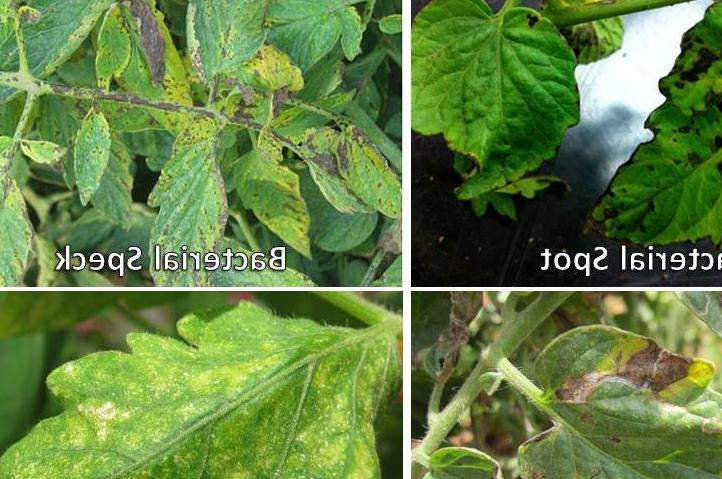Tomato Early blight leaf: (501, 319, 722, 479)
Tomato leaf bacterial spot: (411, 0, 590, 242), (580, 0, 722, 268), (154, 103, 238, 284), (232, 111, 315, 278), (179, 0, 295, 100), (0, 117, 69, 284), (296, 123, 391, 236), (242, 0, 386, 74), (89, 0, 142, 100)
